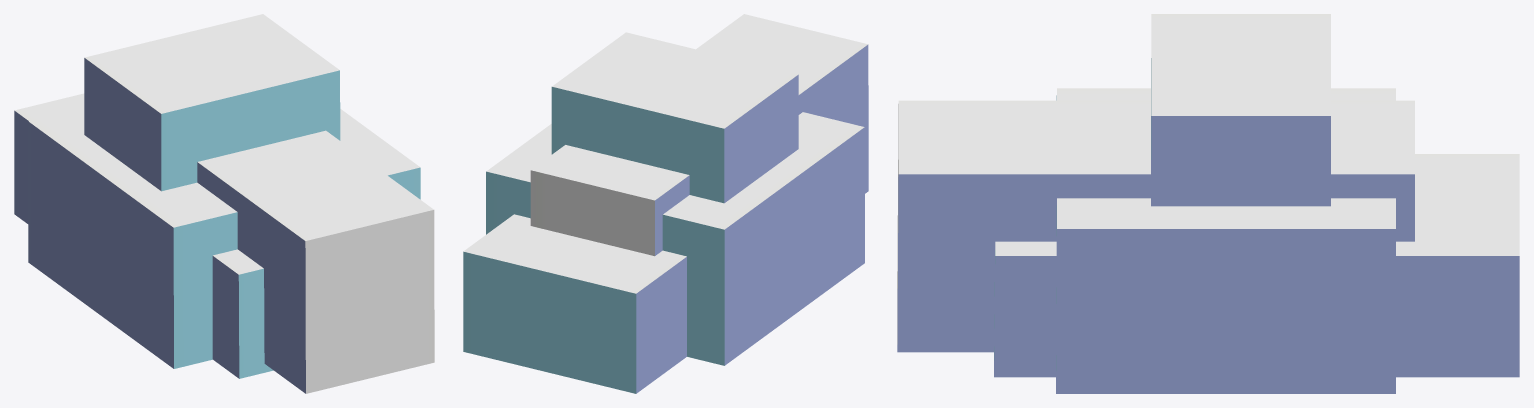
The model's file is cloud1.FBX.
3 renders of one model, left to right at view 1: azimuth 30°, elevation 25°; view 2: azimuth 150°, elevation 25°; view 3: azimuth 270°, elevation 25°, orthographic. The views are drawn at different scales.
Visible parts, largest first — view 1: cloud1; view 2: cloud1; view 3: cloud1.
Part boxes in pixels (<box>): cloud1: <box>14,14,434,393</box>; cloud1: <box>463,14,868,393</box>; cloud1: <box>897,14,1519,393</box>.
Size of the model in its own units: 143 by 268 by 121.
